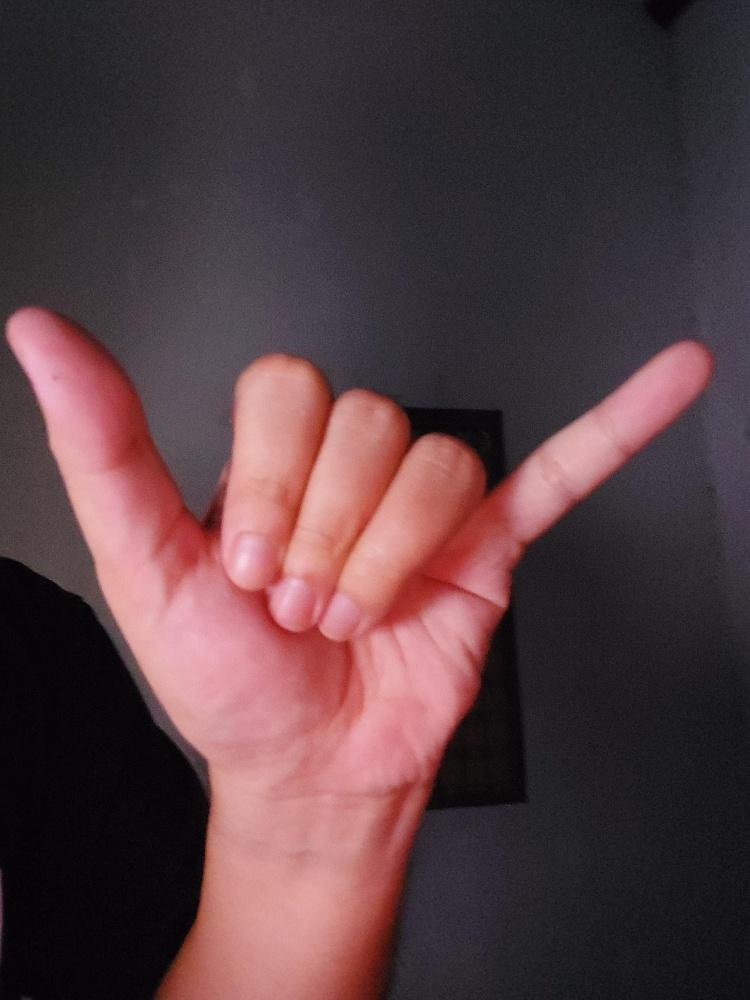y: (5, 292, 717, 793)
